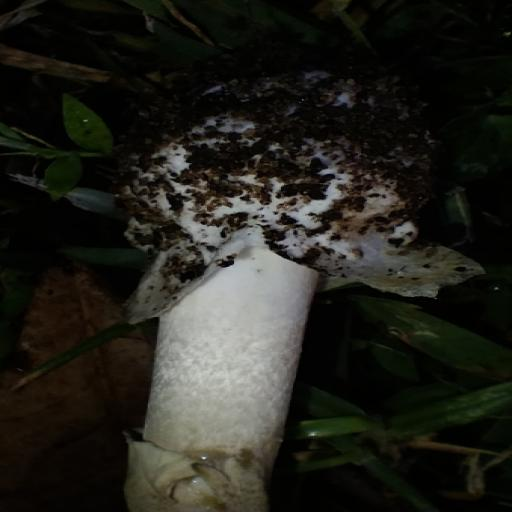Death Cap: (61, 41, 424, 512)
